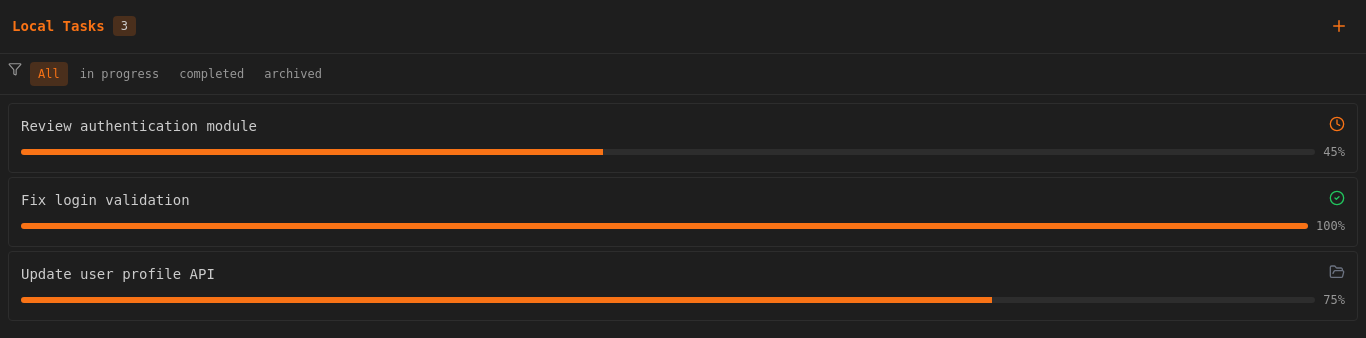
Test: TaskPanel Component › Filtering Functionality › should filter tasks by completed status
Click the button "completed" at (212, 74), box [171, 62, 252, 86]
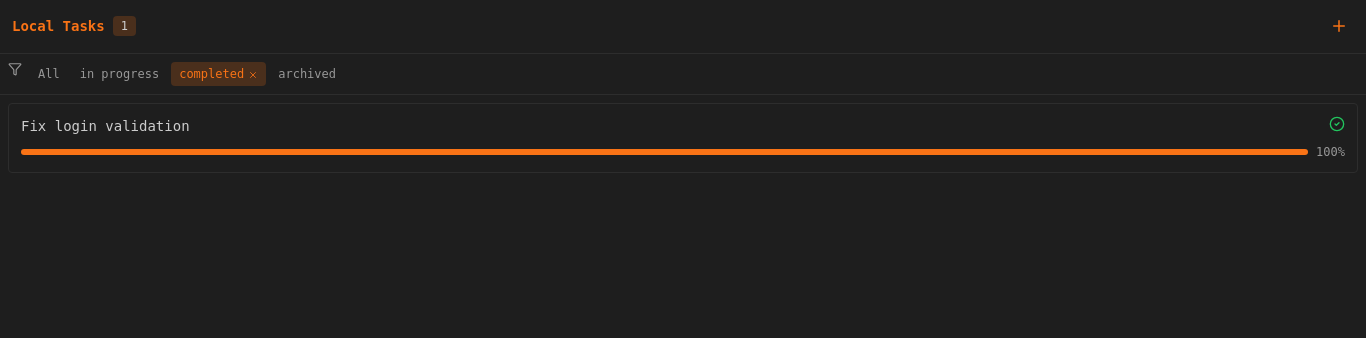
Now the heading "Review authentication module" is gone
Now the heading "Update user profile API" is gone
Now the text "1" is shown, box [113, 16, 136, 36]
